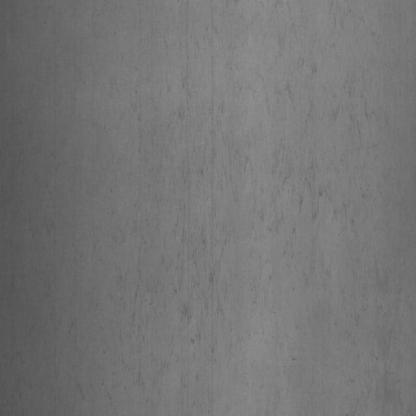silk_spot: (228, 11, 405, 258), (154, 10, 226, 356)
